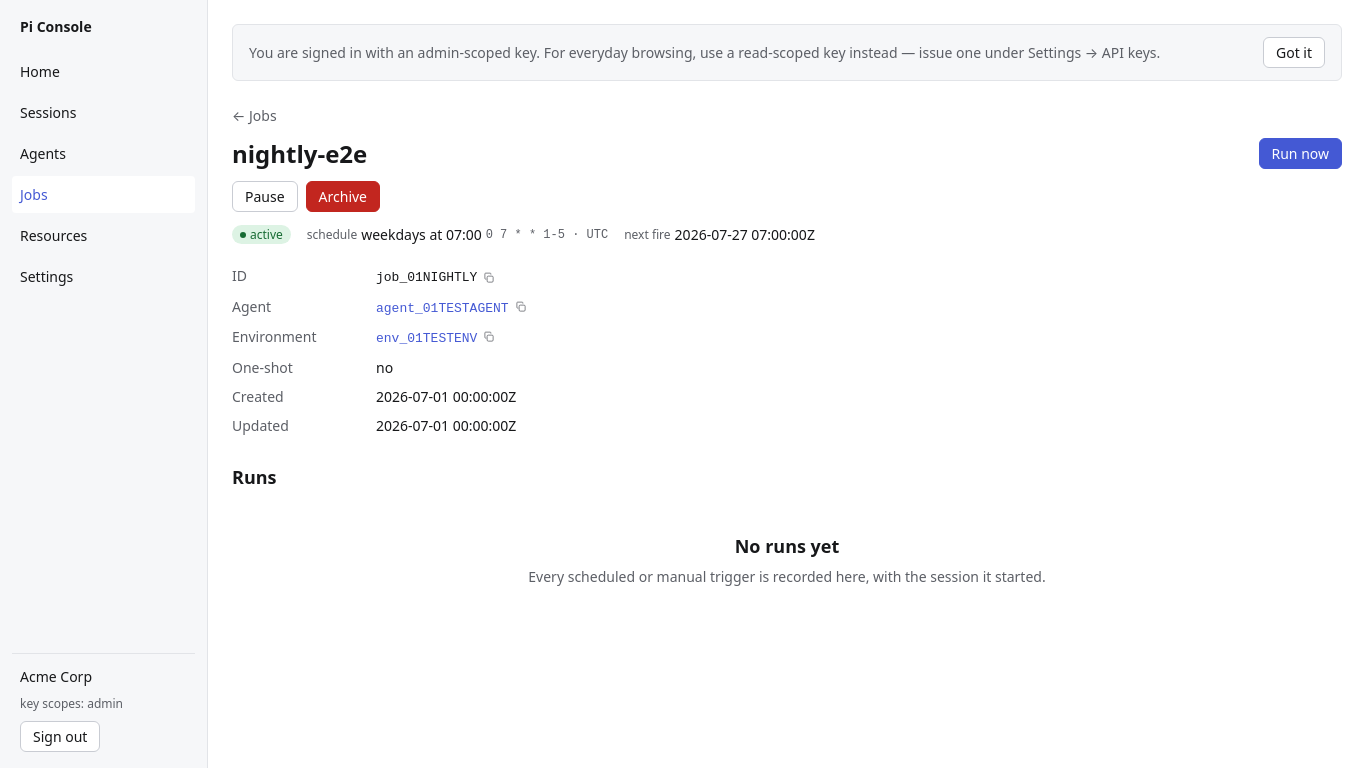
Test case: job lifecycle (§9.4, write-gated, §17.5) › archive requires retyping the name in a DP-7 dialog naming the consequences
Click the button "Archive" at (343, 197), box [306,181,380,212]
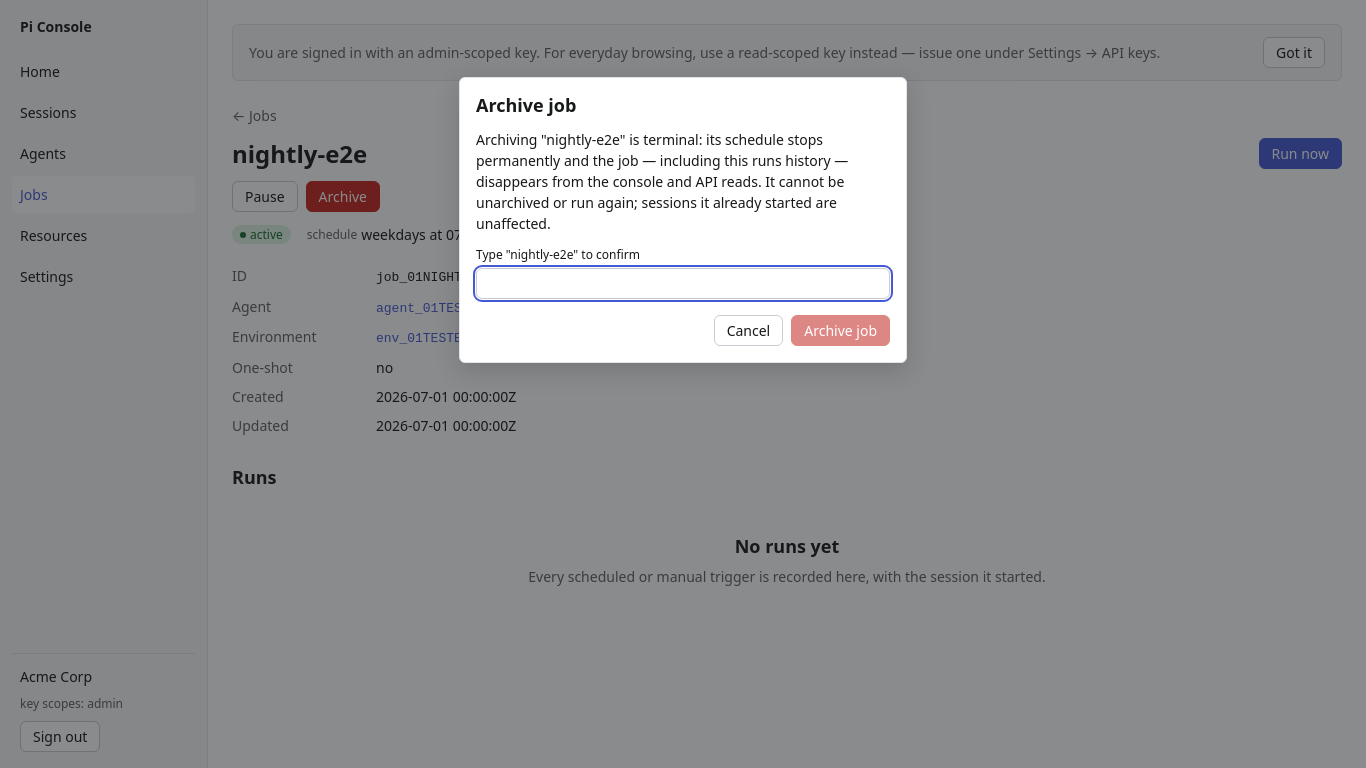
Check: the dialog "Archive job" shows "terminal", box [476,130,848,233]
Check: the dialog "Archive job" shows "schedule stops permanently", box [476,130,848,233]
Check: the dialog "Archive job" shows "disappears from the console and API reads", box [476,130,848,233]
Type "nightly" into the field labelled "Type \"nightly-e2e\" to confirm" at (683, 284), box [476,268,890,299]
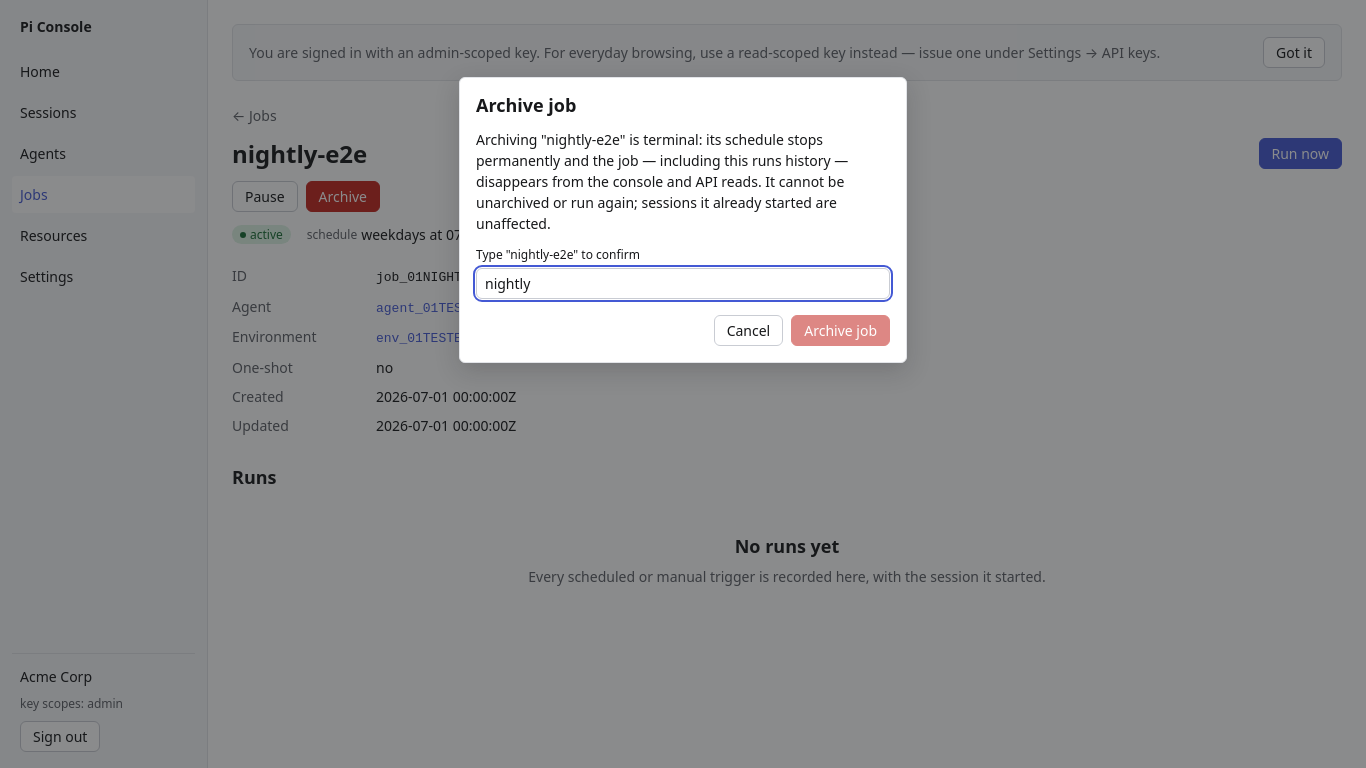
Check: the button "Archive job" is disabled, box [791,315,890,346]
Replace the text in the field labelled "Type \"nightly-e2e\" to confirm" with "nightly-e2e" at (683, 284), box [476,268,890,299]
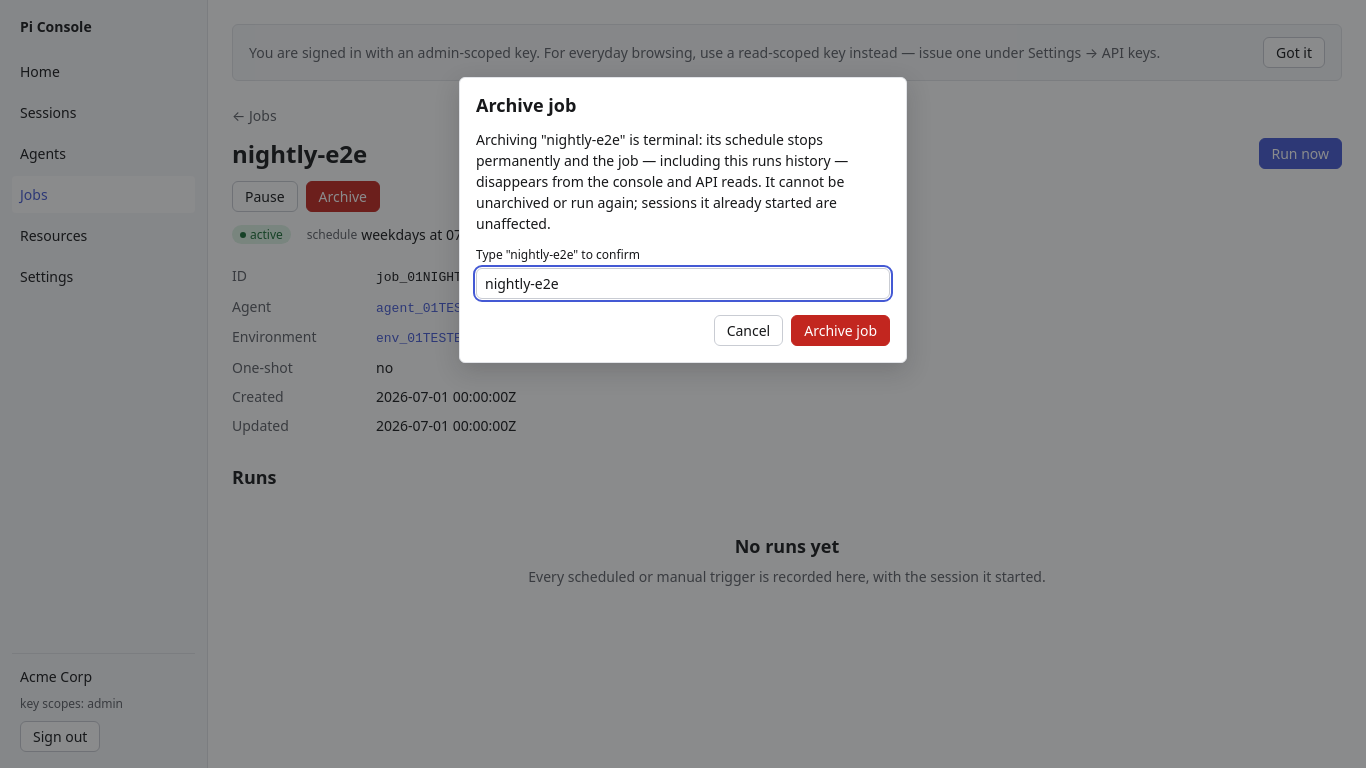
Check: the button "Archive job" is enabled
Click the button "Archive job" at (841, 331), box [791,315,890,346]
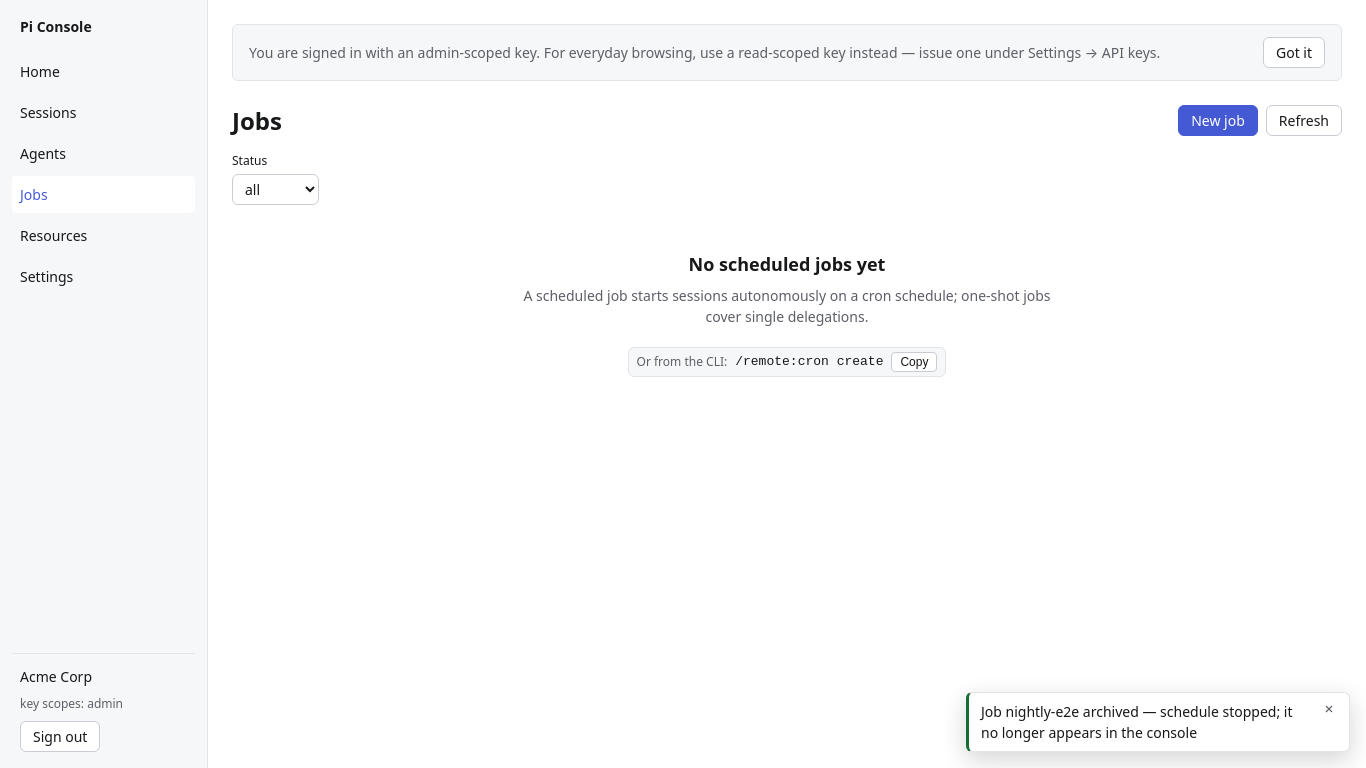
Check: the text "archived — schedule stopped" is shown, box [981,702,1292,742]
Check: the heading "No scheduled jobs yet" is shown, box [688,253,885,277]
